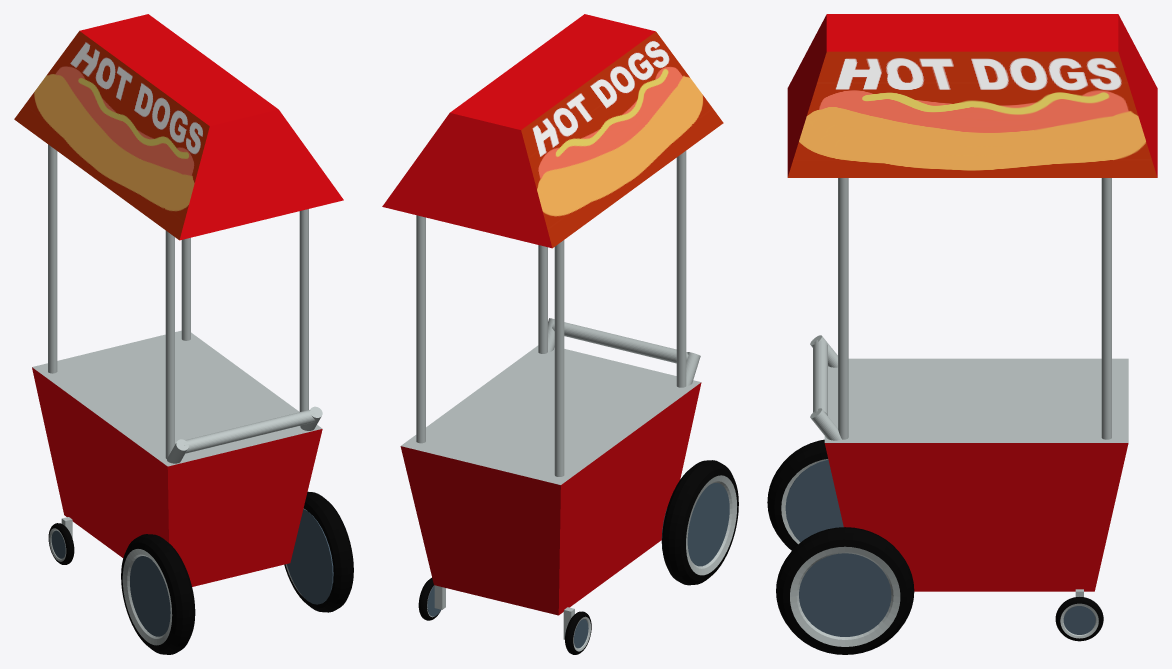
The model's file is HotdogCart.fbx.
3 renders of one model, left to right at view 1: azimuth 30°, elevation 25°; view 2: azimuth 150°, elevation 25°; view 3: azimuth 270°, elevation 25°, orthographic. The views are drawn at different scales.
Visible parts, largest first — view 1: Cylinder.003; view 2: Cylinder.003; view 3: Cylinder.003.
Boxes of the visible parts, x1,y1,x2,y2 form: Cylinder.003: (14, 14, 353, 654); Cylinder.003: (382, 14, 738, 654); Cylinder.003: (767, 14, 1157, 654).
Bounding box in the file's own units: 705 × 429 × 1150.
Materials: 5 (1 with a texture image).
